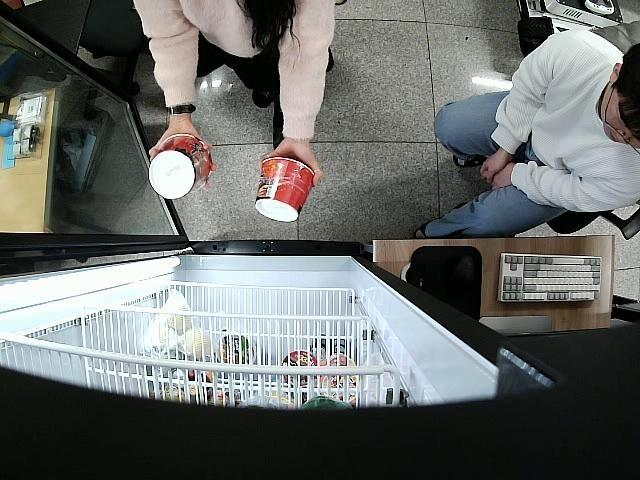01_ShinRamen_L: (148, 134, 212, 202), (255, 157, 316, 223)
